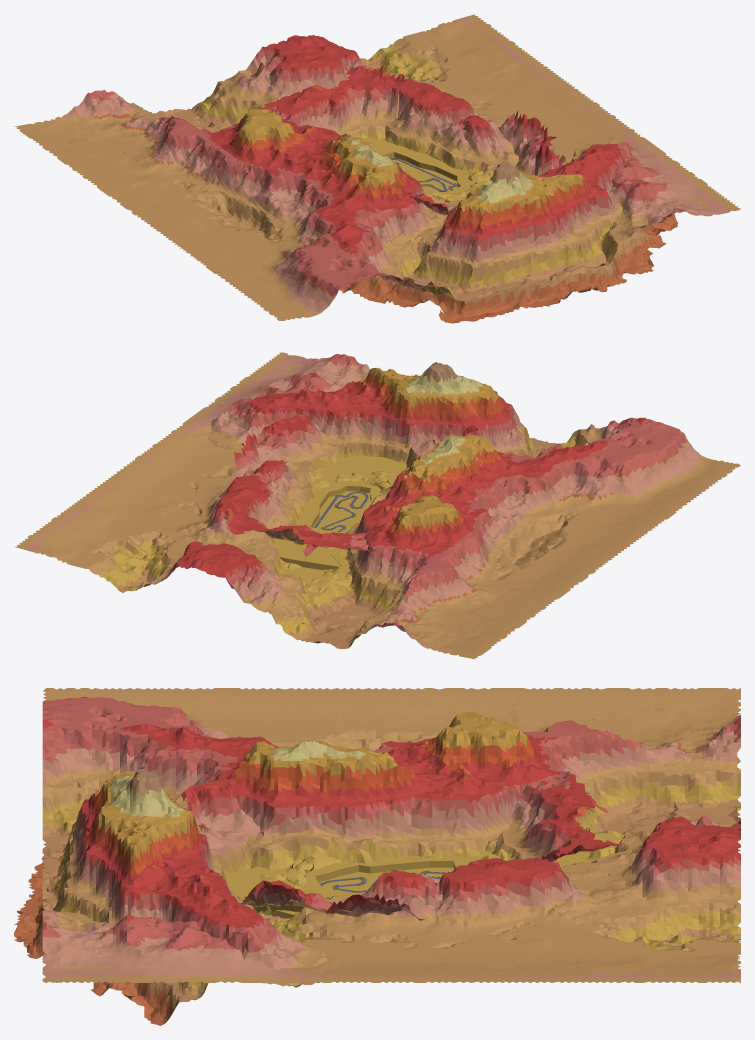
File: CanyonTrack3.fbx
3 renders of one model, top to bottom at view 1: azimuth 30°, elevation 25°; view 2: azimuth 150°, elevation 25°; view 3: azimuth 270°, elevation 25°, orthographic. The views are drawn at different scales.
Visible parts, largest first — view 1: Landscape.005, Plane.004, Plane; view 2: Landscape.005, Plane.004, Plane, Plane.003; view 3: Landscape.005, Plane.004, Plane.
Boxes of the visible parts, bbox=[...] form: Landscape.005: bbox=[14, 14, 740, 323]; Plane.004: bbox=[363, 137, 489, 204]; Plane: bbox=[390, 157, 457, 193]; Landscape.005: bbox=[15, 352, 740, 659]; Plane.004: bbox=[275, 456, 406, 570]; Plane: bbox=[313, 491, 370, 532]; Plane.003: bbox=[314, 492, 368, 531]; Landscape.005: bbox=[14, 688, 740, 1025]; Plane.004: bbox=[225, 850, 555, 918]; Plane: bbox=[318, 867, 453, 893].
Bounding box in the file's own units: 2862 × 634 × 2972.
